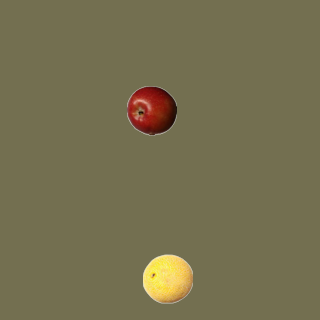Apple Braeburn: (126, 85, 176, 135)
Cantaloupe 1: (142, 253, 192, 303)
